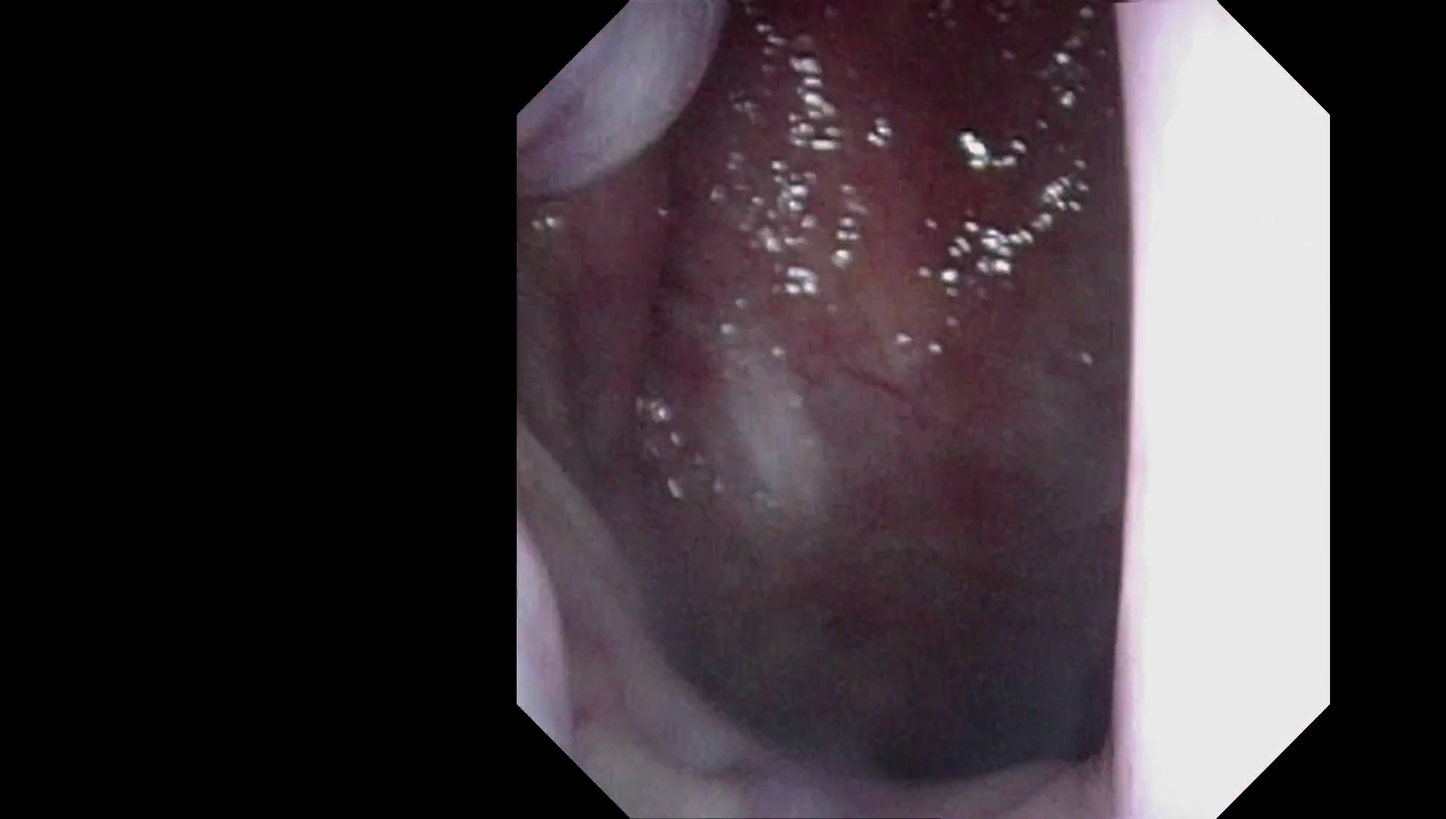close_wall: (1117, 114, 1329, 705)
next: (667, 555, 1165, 803)
